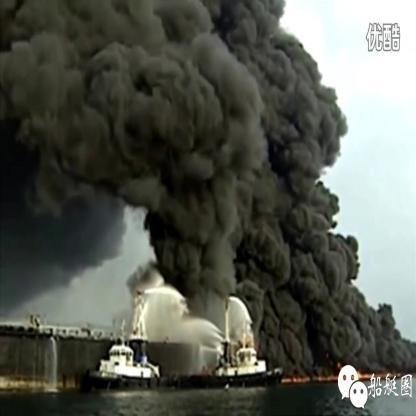smoke: (4, 1, 345, 187), (152, 188, 349, 288), (260, 291, 405, 366)
